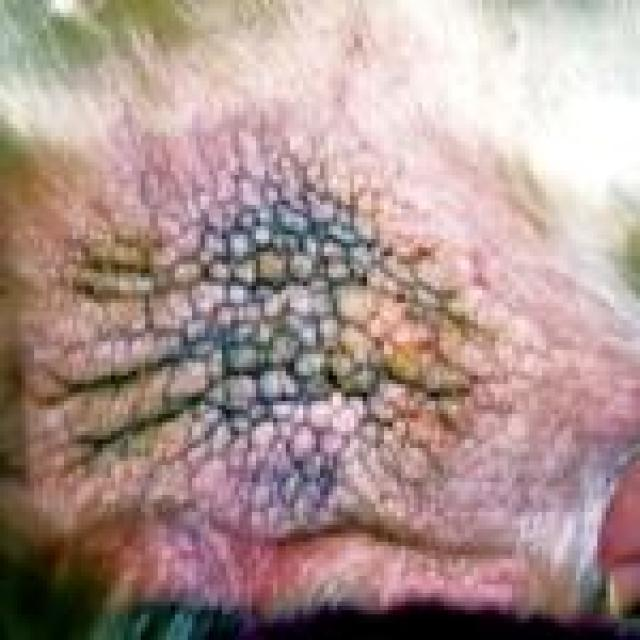fungal infection: (87, 168, 484, 513)
